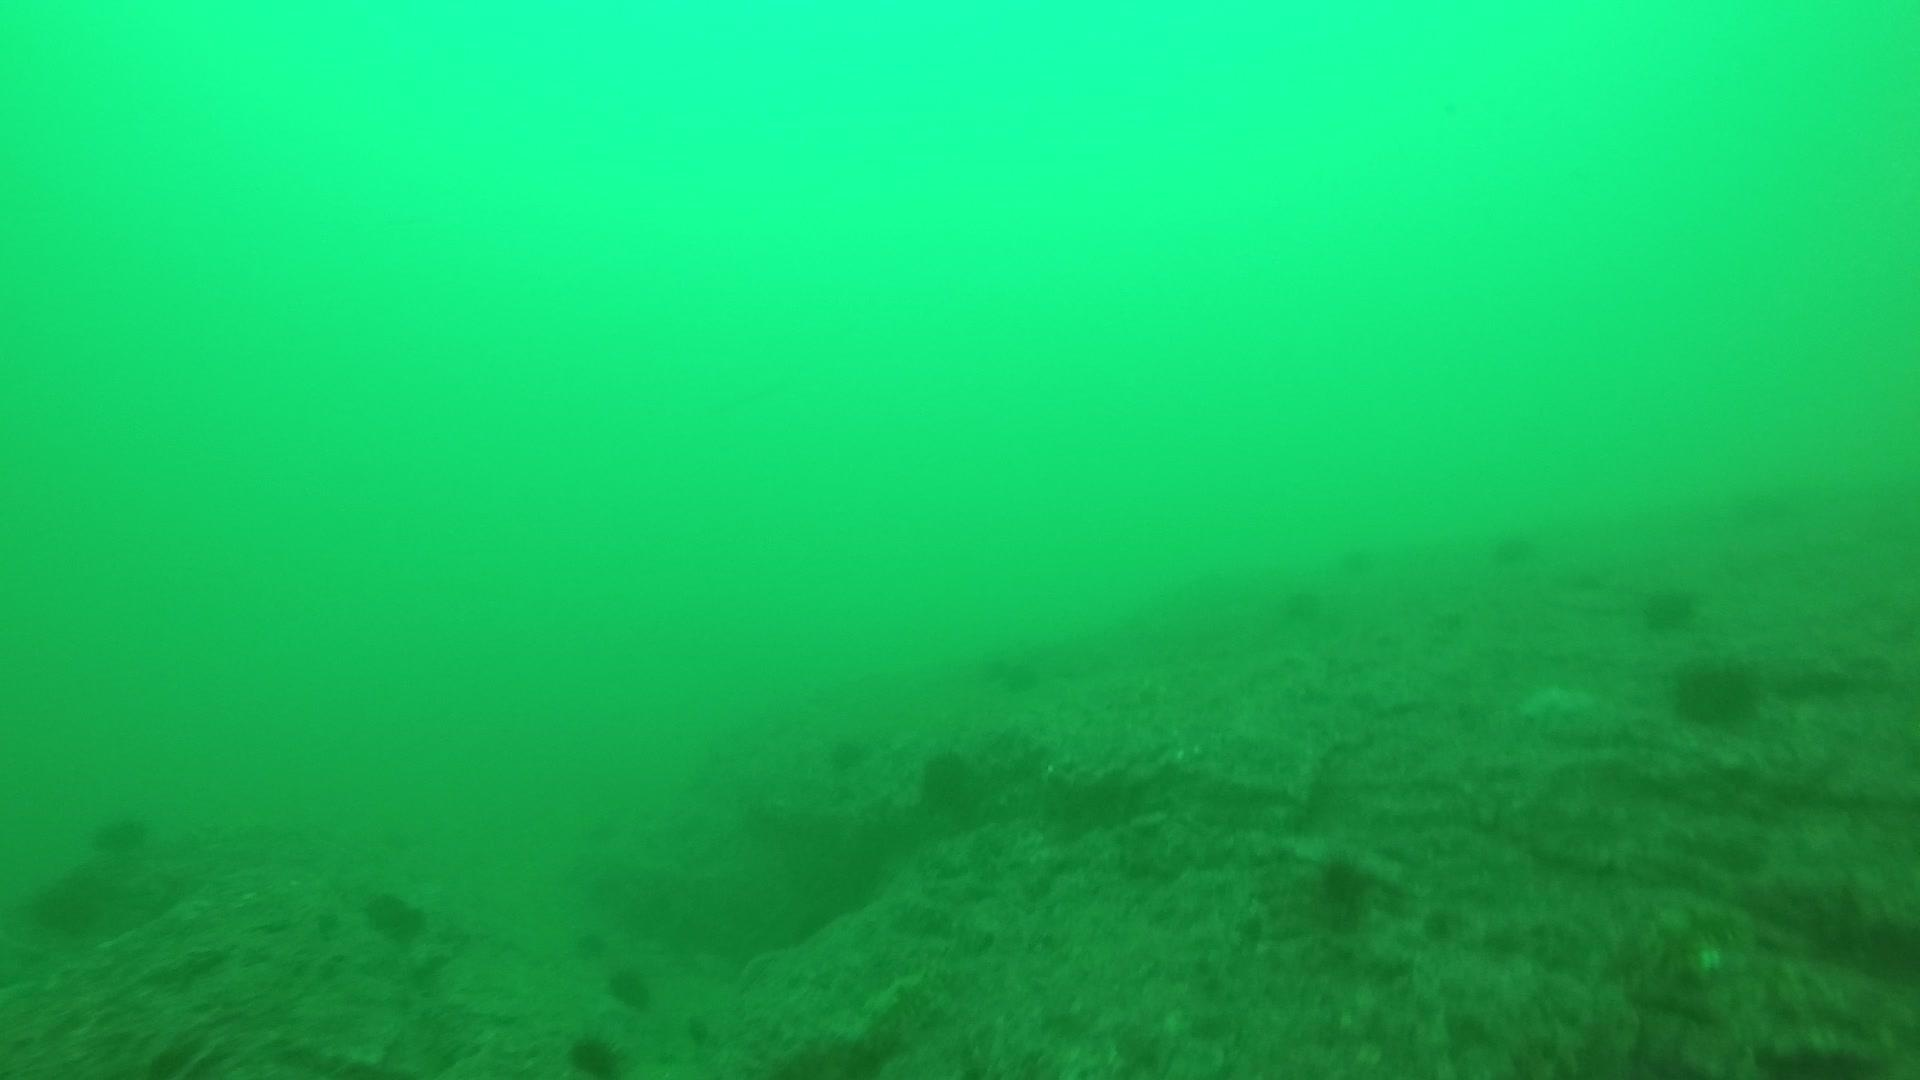echinus: (1665, 651, 1766, 735), (25, 865, 113, 942), (1302, 847, 1383, 928), (913, 742, 986, 818), (359, 884, 433, 947), (808, 720, 878, 781), (1635, 575, 1704, 636), (1269, 570, 1337, 630), (1324, 533, 1393, 593), (985, 641, 1054, 702), (1478, 520, 1547, 579), (86, 804, 156, 862), (562, 1027, 629, 1080), (603, 960, 659, 1013)
